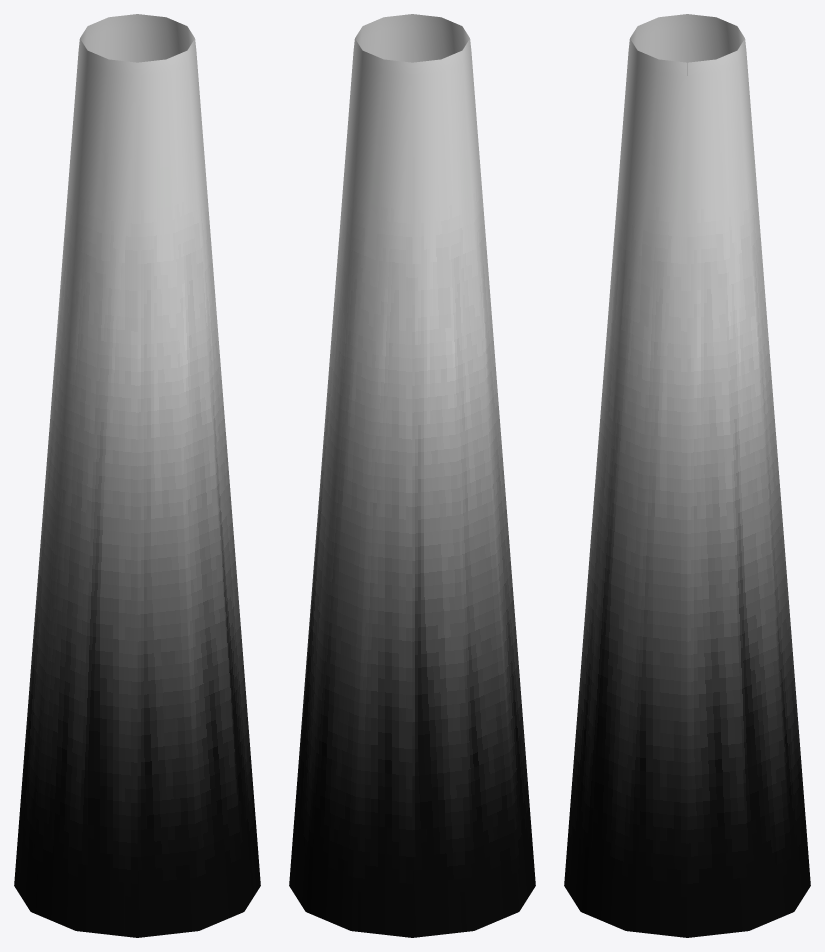
The model's file is robj_l_pinlight.dae.
3 renders of one model, left to right at view 1: azimuth 30°, elevation 25°; view 2: azimuth 150°, elevation 25°; view 3: azimuth 270°, elevation 25°, orthographic.
Visible parts, largest first — view 1: robj_l_pinlight; view 2: robj_l_pinlight; view 3: robj_l_pinlight.
Boxes of the visible parts, x1,y1,x2,y2 form: robj_l_pinlight: (14,14,260,937); robj_l_pinlight: (289,14,535,937); robj_l_pinlight: (564,14,810,937).
Bounding box in the file's own units: 33.74 × 128 × 33.74.
Materials: 1 (1 with a texture image).
